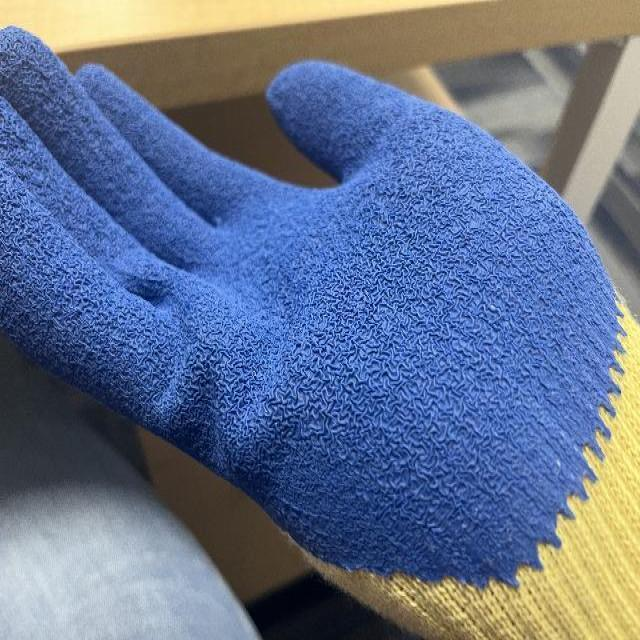Gloves: (0, 24, 632, 595)
